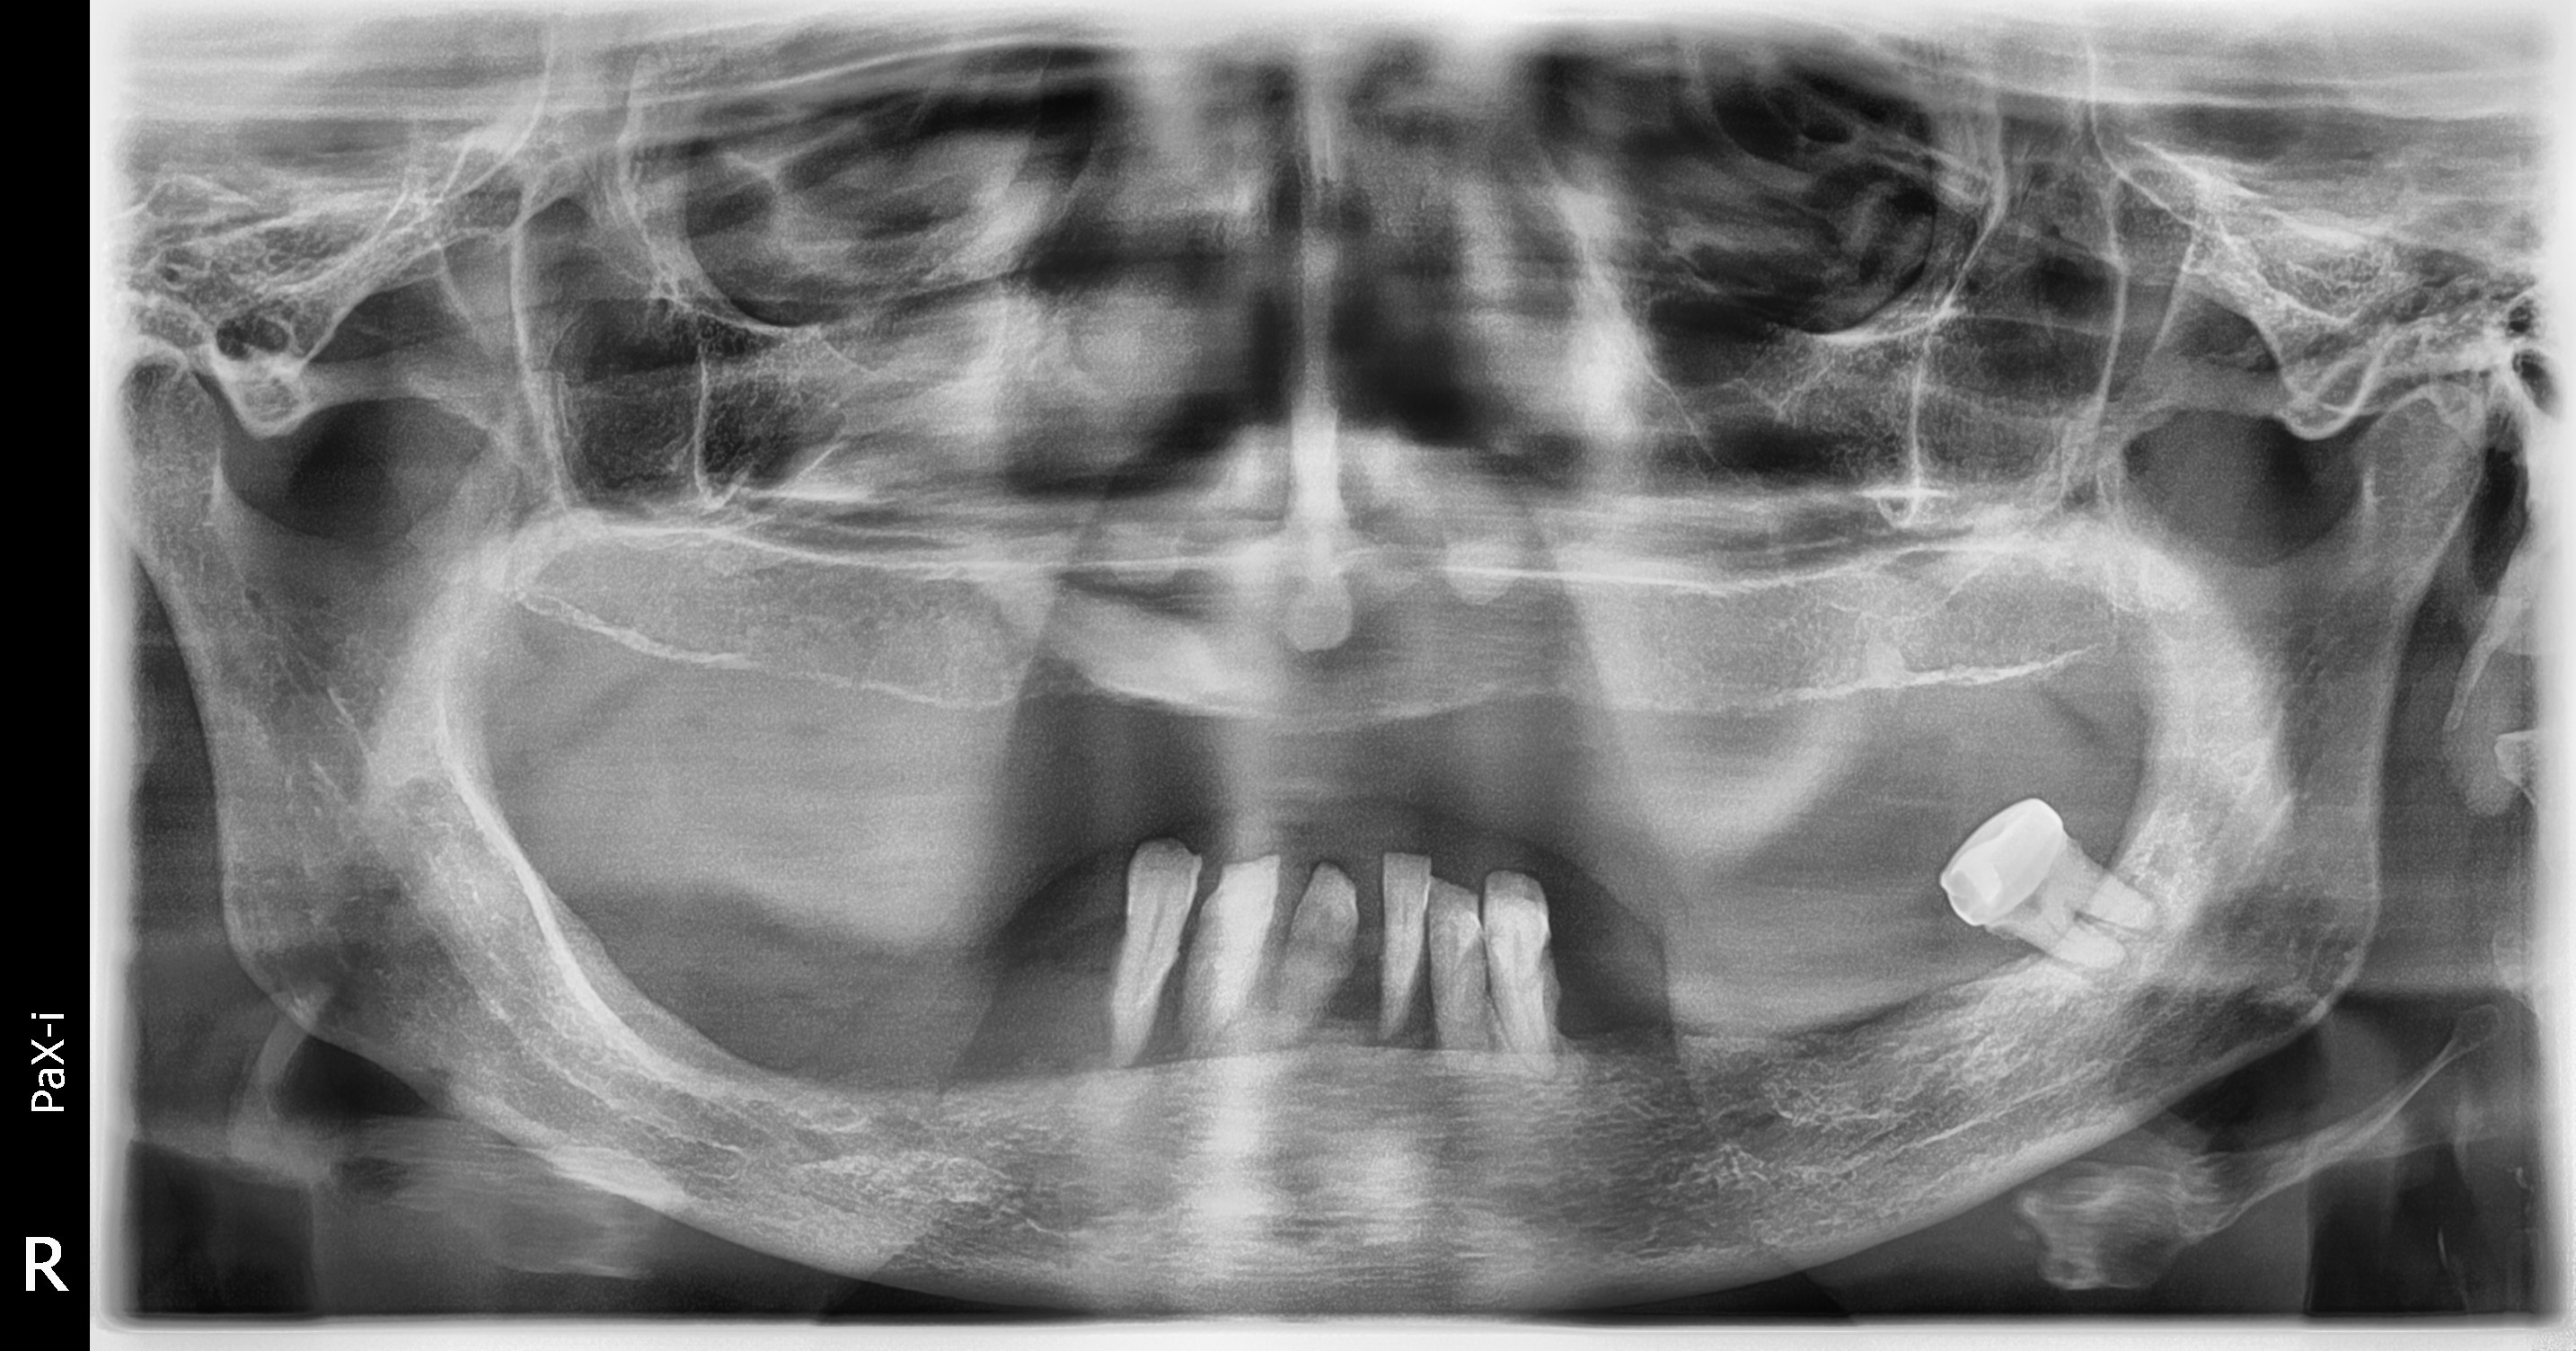API: (1014, 382, 2576, 1337), (986, 441, 2576, 1351)
BON: (731, 431, 2329, 1351)
CAR: (923, 409, 2576, 1351)
FUR: (993, 407, 2576, 1351)
PRR: (893, 315, 2576, 1252)
